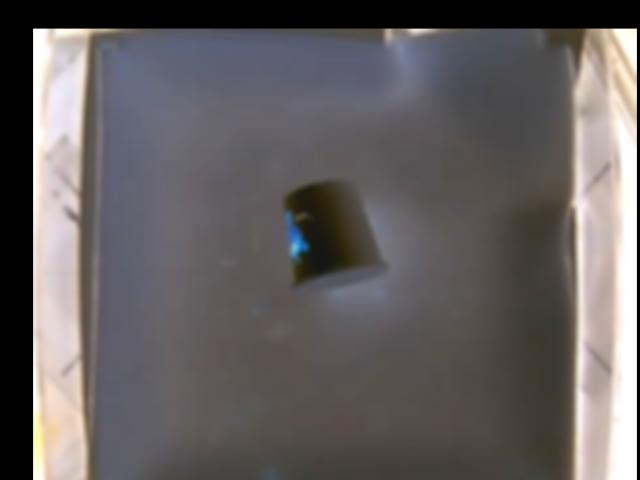Cup: (281, 181, 387, 294)
